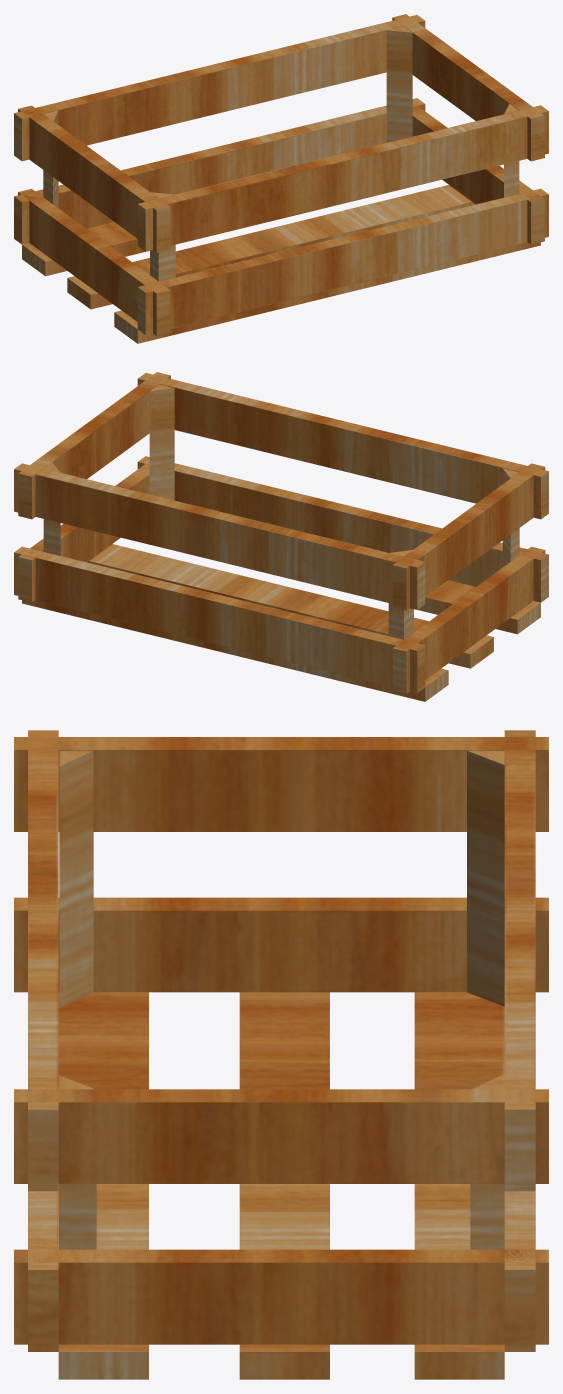
Rendered from CajaPalet.fbx.
3 renders of one model, top to bottom at view 1: azimuth 30°, elevation 25°; view 2: azimuth 150°, elevation 25°; view 3: azimuth 270°, elevation 25°, orthographic. The views are drawn at different scales.
Visible parts, largest first — view 1: CajaPalet; view 2: CajaPalet; view 3: CajaPalet.
Boxes of the visible parts, x1,y1,x2,y2 form: CajaPalet: (14, 14, 548, 343); CajaPalet: (14, 372, 548, 701); CajaPalet: (14, 730, 548, 1379).
Bounding box in the file's own units: 127 × 42.14 × 75.59.
1 material, 1 textured.
